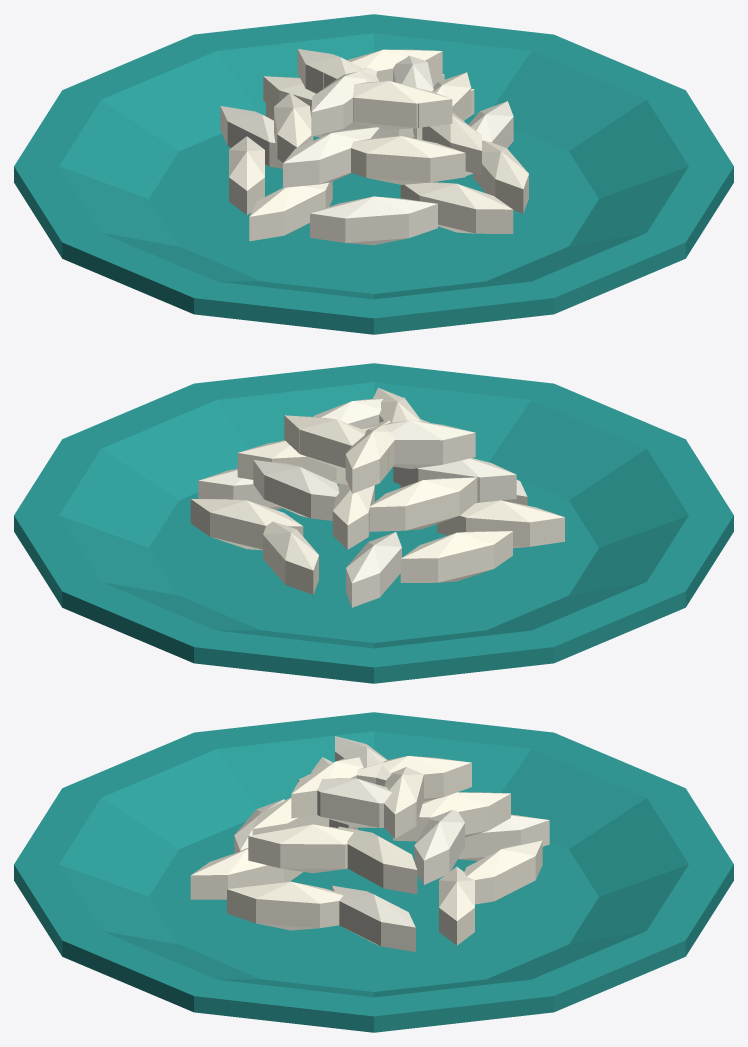
Rendered from rice.glb.
3 renders of one model, top to bottom at view 1: azimuth 30°, elevation 25°; view 2: azimuth 150°, elevation 25°; view 3: azimuth 270°, elevation 25°, orthographic.
Parts seen in each view (by area): view 1: rice; view 2: rice; view 3: rice.
Part boxes in pixels (x1=…): rice: x1=14, y1=14, x2=733, y2=334; rice: x1=14, y1=363, x2=733, y2=683; rice: x1=14, y1=712, x2=733, y2=1032.
Size of the model in its own units: 0.24 by 0.058 by 0.24.
